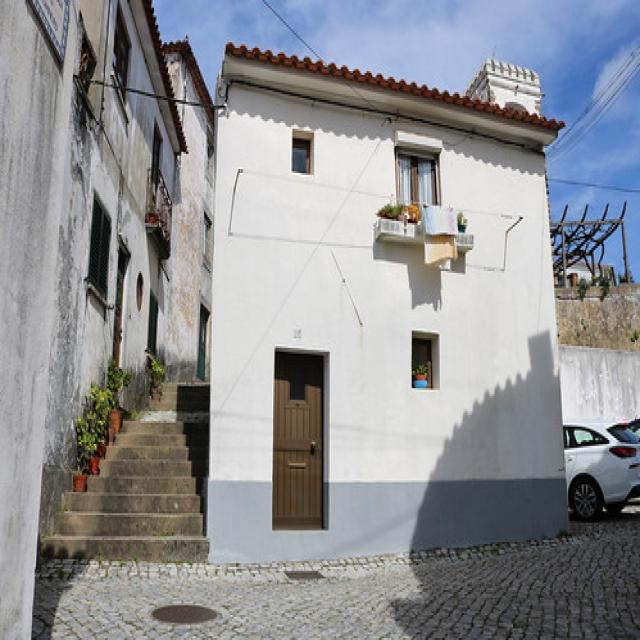building: (204, 36, 576, 572)
